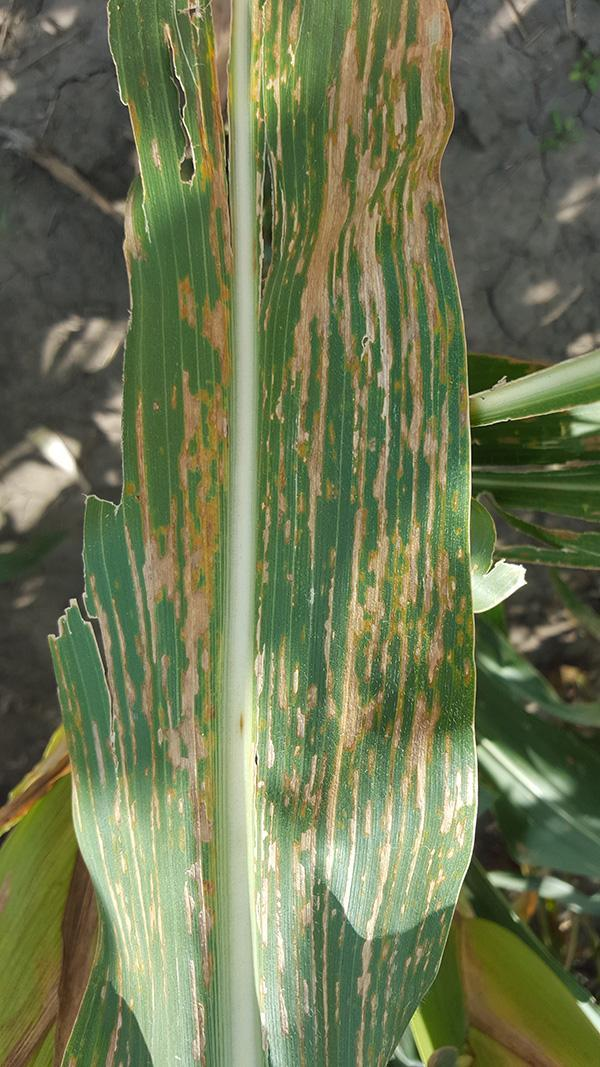Corn_Blight: (35, 7, 566, 1057)
